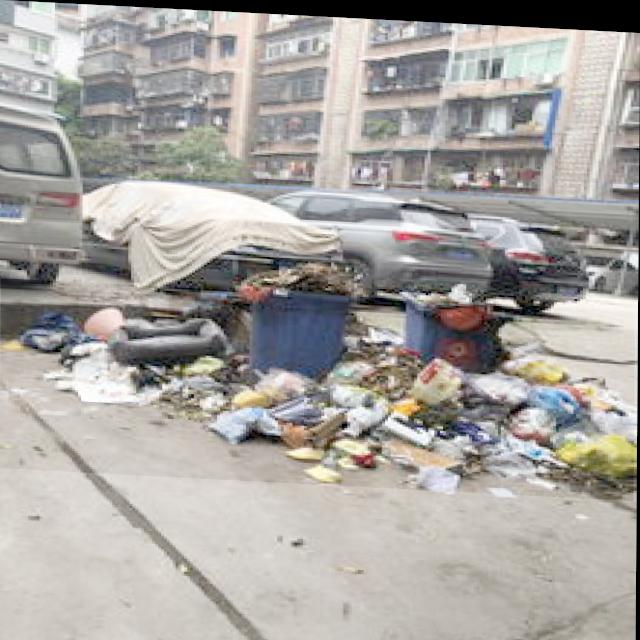garbage: (0, 278, 635, 494)
overflow: (238, 253, 355, 373), (398, 272, 488, 361)
